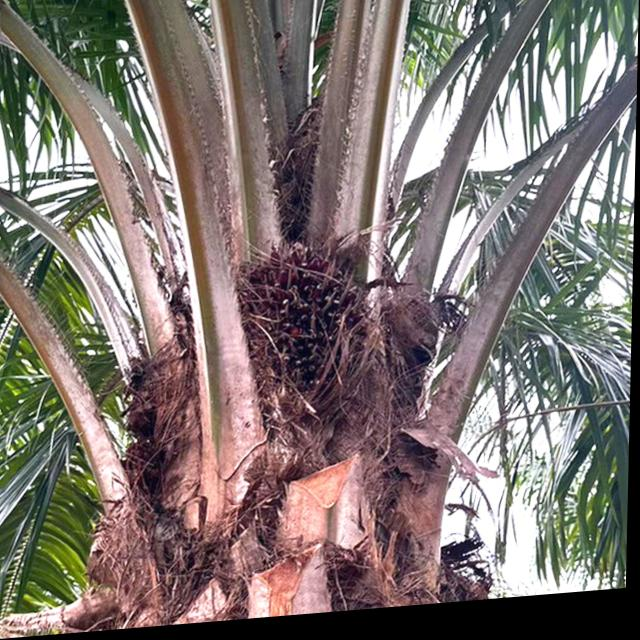ripe: (243, 237, 378, 400)
